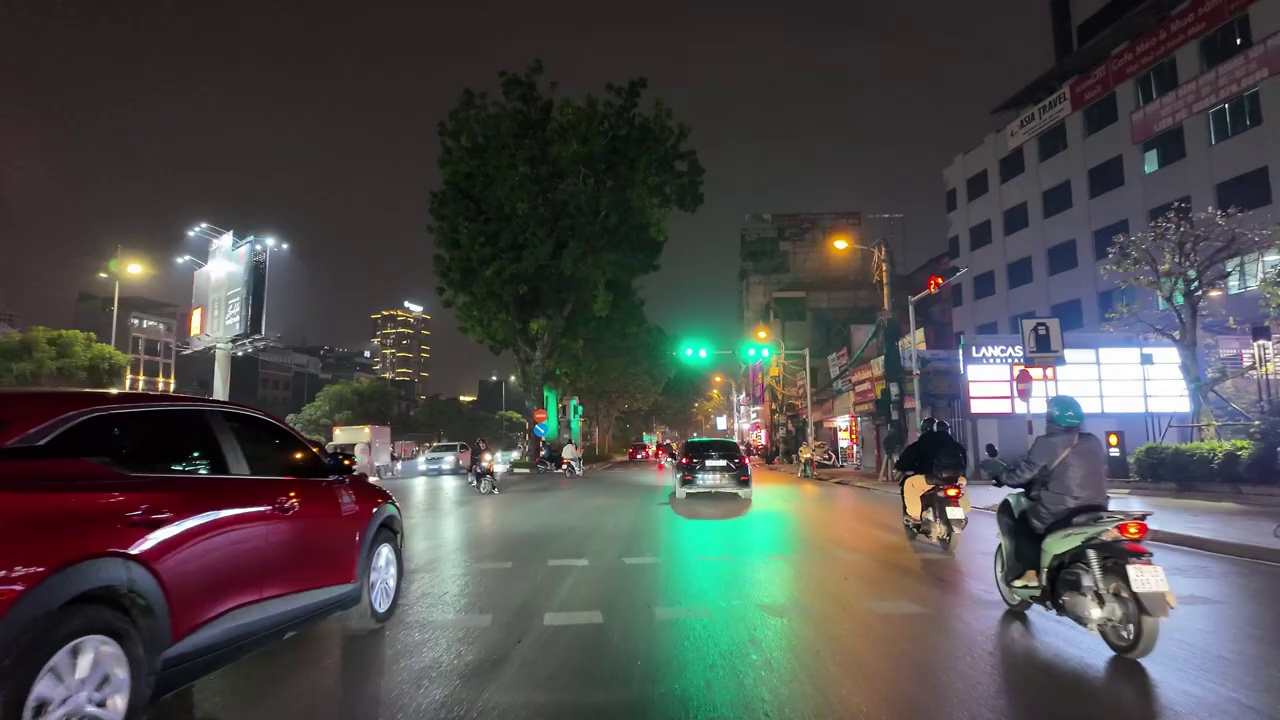acesa: (118, 256, 153, 284), (826, 230, 856, 260), (752, 325, 773, 344)
